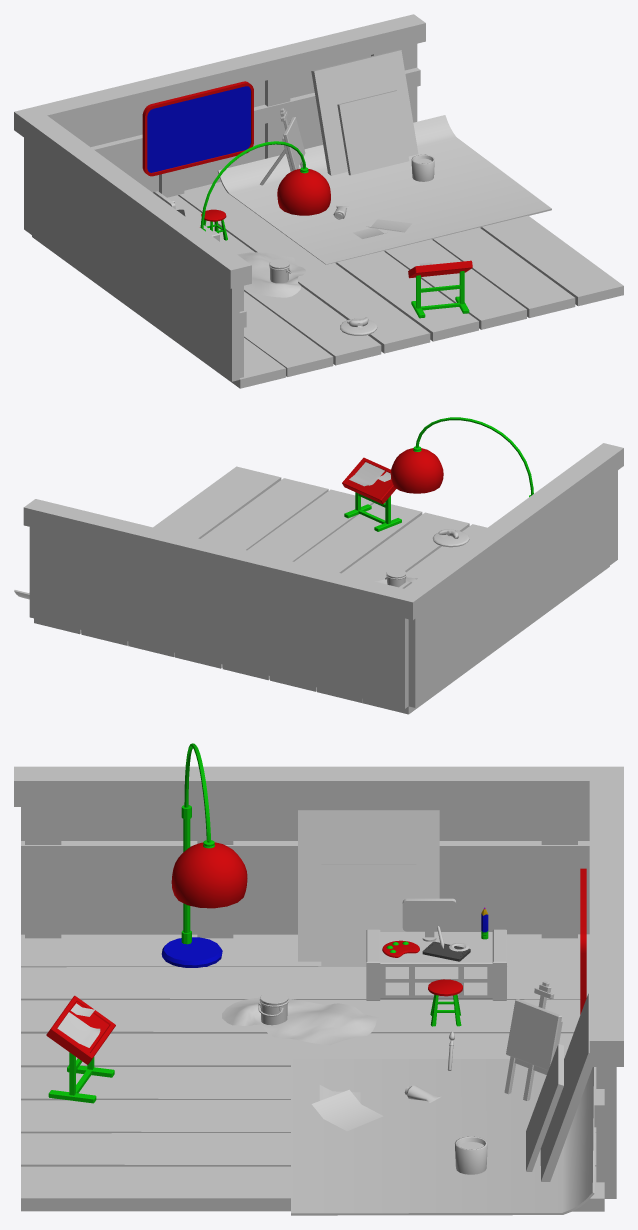
File: 아트방.fbx
3 renders of one model, top to bottom at view 1: azimuth 30°, elevation 25°; view 2: azimuth 150°, elevation 25°; view 3: azimuth 270°, elevation 25°, orthographic. The views are drawn at different scales.
Parts seen in each view (by area): view 1: A_floor_L, A_cloth1_L, wall.049, A_wall1_L.001, A_wall1_L, A_board_L, wall.004, A_easel_L.001, A_easel_L.002, wall.003, A _amp_L, Plane.030 (+4 smaller); view 2: wall.004, A_floor_L, wall.049, A_wall1_L.001, A_wall1_L, A _amp_L, A_desk2_L, A_paper_L; view 3: A_floor_L, A_cloth1_L, wall.049, A_wall1_L, wall.053, A_canvas_L.003, A_wall1_L.001, A_desk_L, A_canvas_L.002, A _amp_L, Plane.030, A_easel_L.001 (+13 smaller).
Boxes of the visible parts, bbox=[...] form: A_floor_L: bbox=[32, 182, 623, 388]; A_cloth1_L: bbox=[217, 115, 551, 264]; wall.049: bbox=[24, 138, 239, 381]; A_wall1_L.001: bbox=[35, 14, 425, 129]; A_wall1_L: bbox=[14, 106, 251, 288]; A_board_L: bbox=[142, 81, 253, 176]; wall.004: bbox=[78, 44, 417, 192]; A_easel_L.001: bbox=[311, 49, 418, 175]; A_easel_L.002: bbox=[337, 90, 409, 175]; wall.003: bbox=[66, 49, 420, 197]; A _amp_L: bbox=[200, 141, 330, 231]; Plane.030: bbox=[237, 252, 305, 297]; wall.004: bbox=[29, 527, 408, 708]; A_floor_L: bbox=[34, 466, 609, 714]; wall.049: bbox=[408, 470, 617, 707]; A_wall1_L.001: bbox=[23, 499, 403, 614]; A_wall1_L: bbox=[392, 443, 623, 620]; A _amp_L: bbox=[390, 417, 533, 496]; A_desk2_L: bbox=[342, 457, 401, 531]; A_paper_L: bbox=[349, 462, 384, 486]; A_floor_L: bbox=[21, 934, 604, 1211]; A_cloth1_L: bbox=[291, 1058, 595, 1215]; wall.049: bbox=[21, 807, 589, 934]; A_wall1_L: bbox=[14, 766, 623, 806]; wall.053: bbox=[21, 807, 589, 938]; A_canvas_L.003: bbox=[298, 810, 439, 961]; A_wall1_L.001: bbox=[589, 781, 623, 1066]; A_desk_L: bbox=[366, 929, 506, 1000]; A_canvas_L.002: bbox=[321, 864, 416, 965]; A _amp_L: bbox=[161, 743, 247, 967]; Plane.030: bbox=[222, 997, 379, 1045]; A_easel_L.001: bbox=[540, 993, 592, 1181].
Bounding box in the file's own units: 1133 × 1012 × 459.
